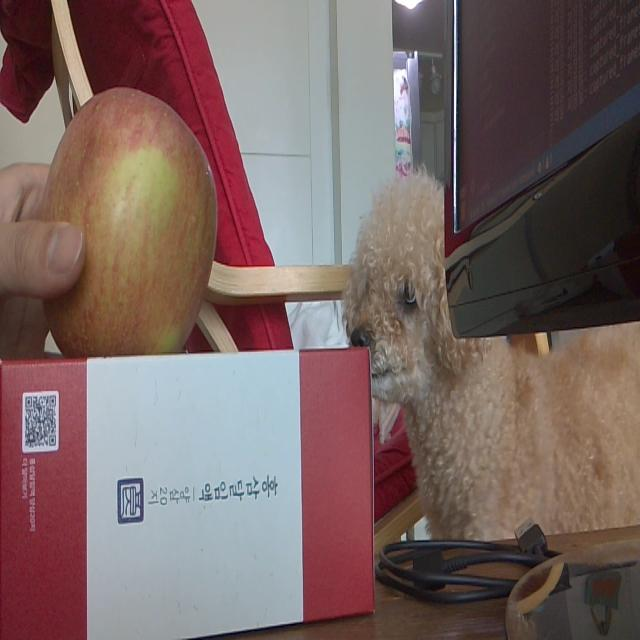apple: (38, 85, 218, 358)
